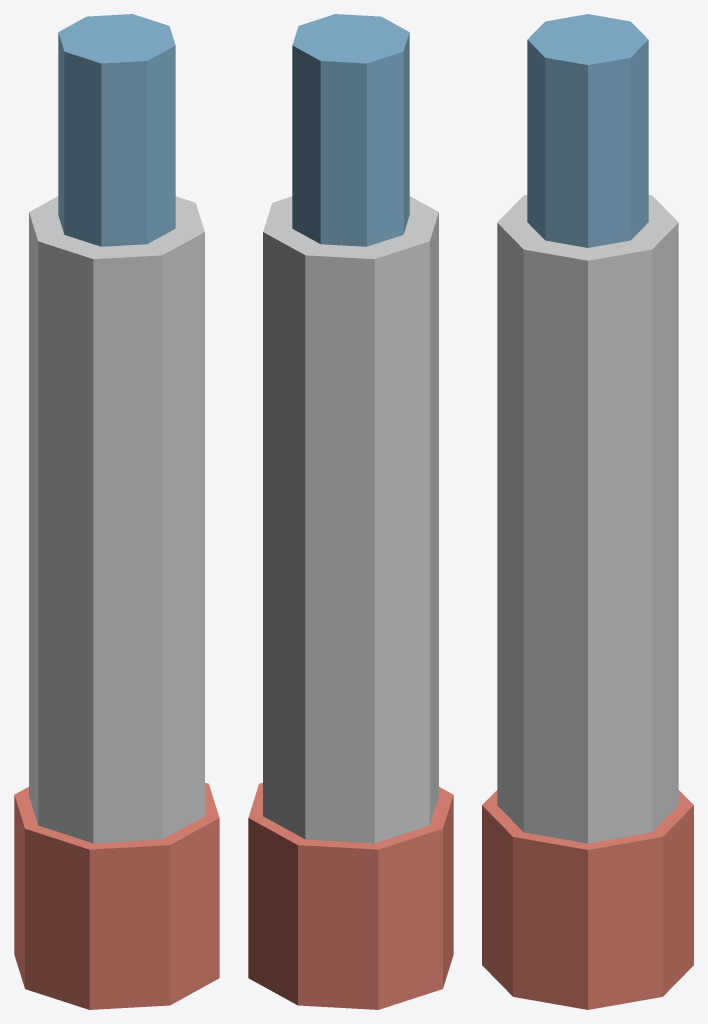
Rendered from SM_MedicalSyringe.fbx.
The picture shows the model from 3 angles, left to right: view 1: azimuth 30°, elevation 25°; view 2: azimuth 150°, elevation 25°; view 3: azimuth 270°, elevation 25°; orthographic projection.
Visible parts, largest first — view 1: SM_MedicalSyringe; view 2: SM_MedicalSyringe; view 3: SM_MedicalSyringe.
Boxes of the visible parts, x1,y1,x2,y2 form: SM_MedicalSyringe: (14,14,219,1009); SM_MedicalSyringe: (248,14,453,1009); SM_MedicalSyringe: (482,14,693,1009).
Size of the model in its own units: 420 by 420 by 2025.
